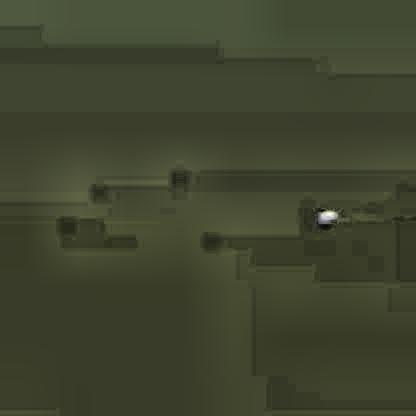golfball: (314, 207, 337, 227)
